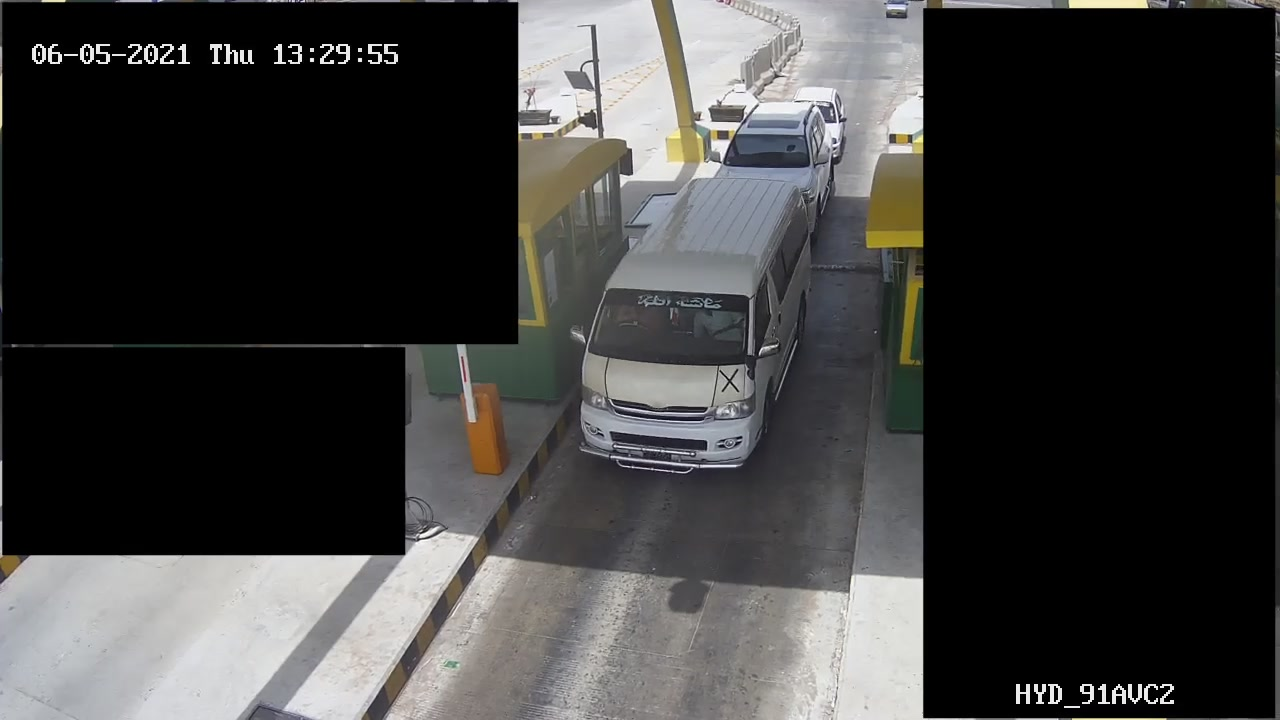F2: (571, 176, 822, 492)
